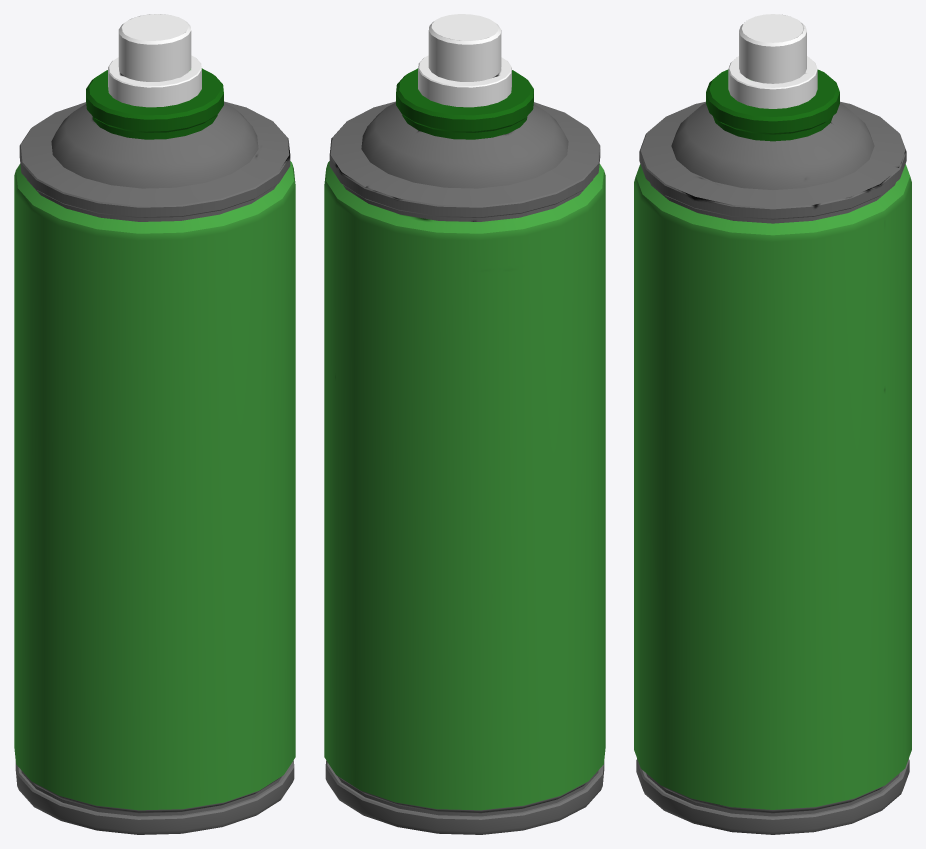
The model's file is Spray_can_03.fbx.
3 views of the same model, side by side, from view 1: azimuth 30°, elevation 25°; view 2: azimuth 150°, elevation 25°; view 3: azimuth 270°, elevation 25° (orthographic).
Parts seen in each view (by area): view 1: pCylinder3; view 2: pCylinder3; view 3: pCylinder3.
Boxes of the visible parts, x1,y1,x2,y2 form: pCylinder3: (14, 14, 295, 834); pCylinder3: (324, 14, 605, 834); pCylinder3: (634, 14, 911, 834).
Size of the model in its own units: 16.17 by 47.07 by 15.82.
Materials: 1 (1 with a texture image).
